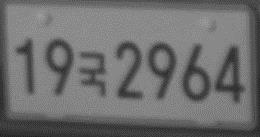1: (15, 37, 36, 96)
2: (115, 41, 144, 100)
4: (215, 45, 245, 103)
6: (181, 44, 212, 101)
9: (148, 41, 176, 99), (45, 38, 73, 95)
국: (78, 50, 107, 98)
